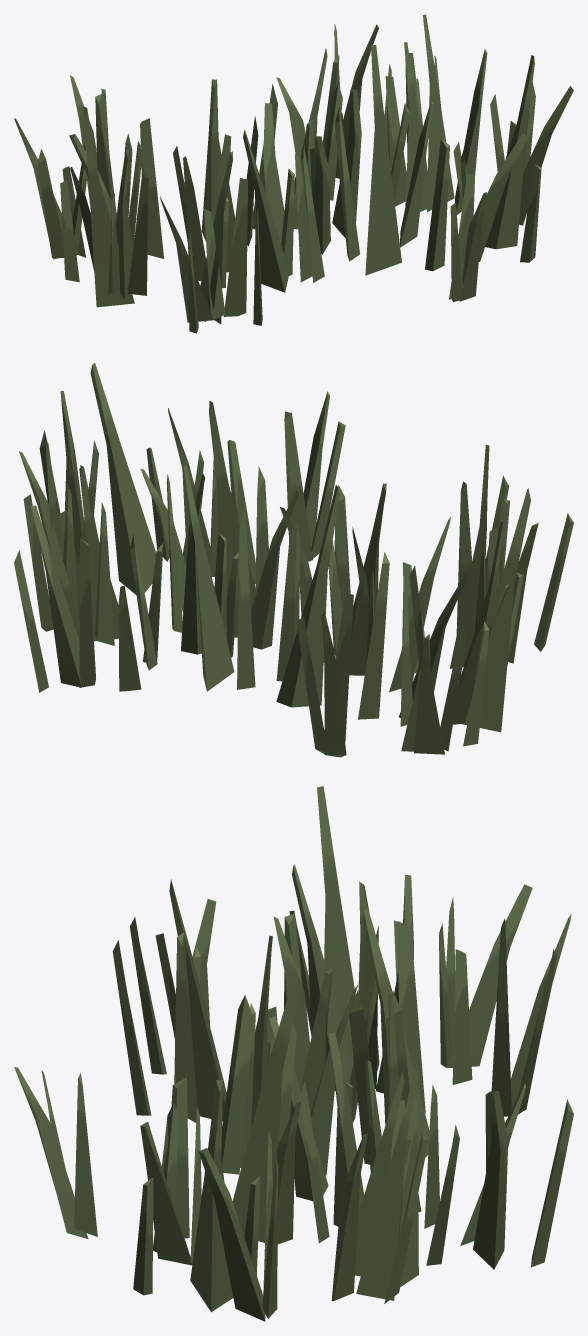
Rendered from Env_Grass_Tall_04.glb.
The picture shows the model from 3 angles, top to bottom: view 1: azimuth 30°, elevation 25°; view 2: azimuth 150°, elevation 25°; view 3: azimuth 270°, elevation 25°; orthographic projection. The views are drawn at different scales.
Visible parts, largest first — view 1: SM_Gen_Env_Grass_Tall_04; view 2: SM_Gen_Env_Grass_Tall_04; view 3: SM_Gen_Env_Grass_Tall_04.
Part boxes in pixels (x1,y1,x2,y2): SM_Gen_Env_Grass_Tall_04: (14, 14, 573, 333); SM_Gen_Env_Grass_Tall_04: (14, 363, 573, 757); SM_Gen_Env_Grass_Tall_04: (14, 786, 573, 1321).
Bounding box in the file's own units: 3.83 × 1.72 × 3.14.
1 material, 1 textured.
